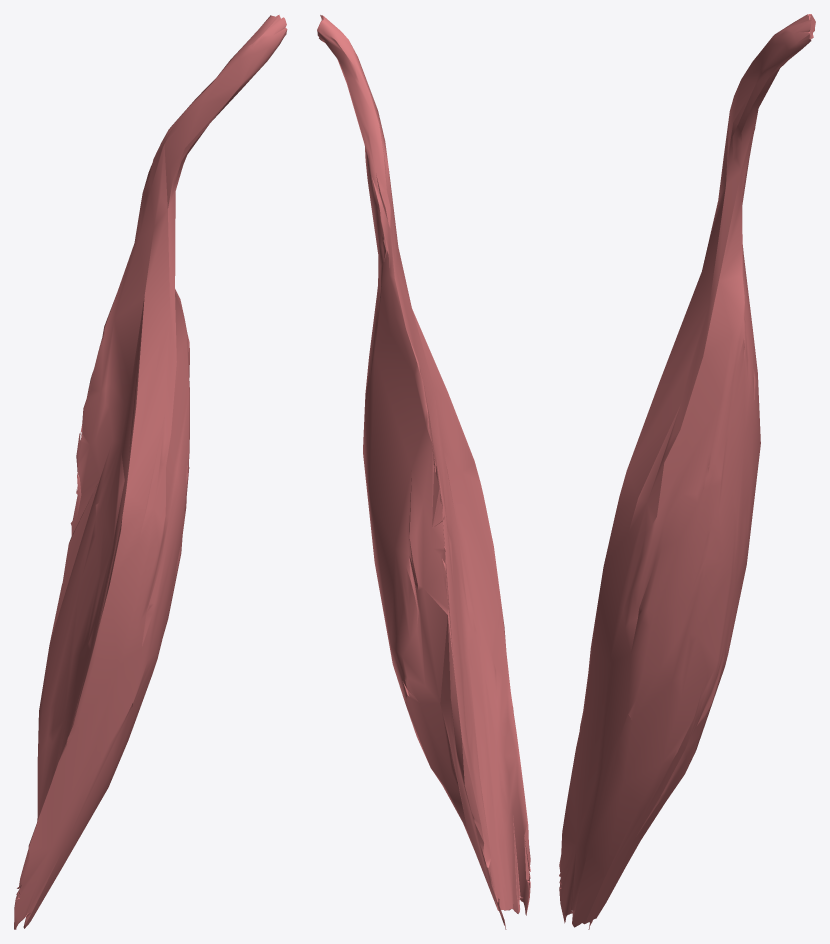
The picture shows the model from 3 angles, left to right: view 1: azimuth 30°, elevation 25°; view 2: azimuth 150°, elevation 25°; view 3: azimuth 330°, elevation 25°; orthographic projection. The views are drawn at different scales.
Visible parts, largest first — view 1: FJ1512; view 2: FJ1512; view 3: FJ1512.
Boxes of the visible parts, <box> form: FJ1512: <box>14,15,287,929</box>; FJ1512: <box>317,15,530,929</box>; FJ1512: <box>559,14,815,929</box>.
Bounding box in the file's own units: 0.0767 × 0.2611 × 0.033.
